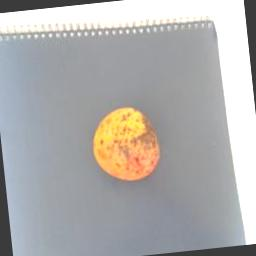Mango Rotten: (80, 94, 174, 196)
